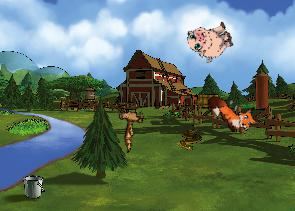eagle: (102, 95, 157, 153)
fox: (204, 80, 264, 142)
pig: (183, 14, 237, 66)
